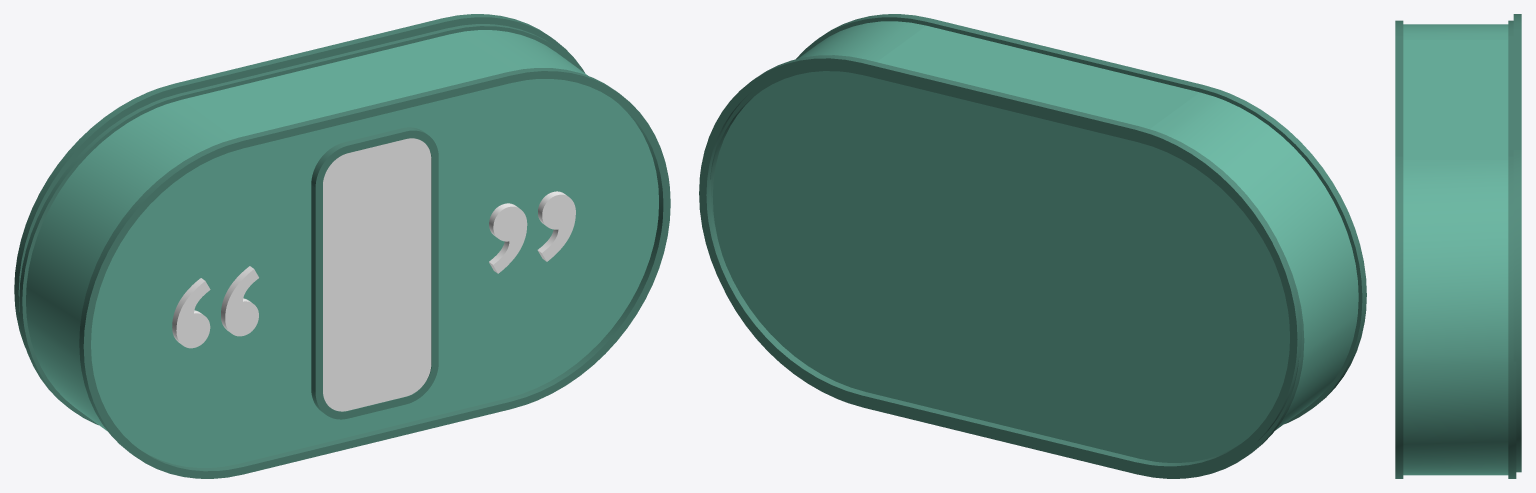
3 renders of one model, left to right at view 1: azimuth 30°, elevation 25°; view 2: azimuth 150°, elevation 25°; view 3: azimuth 270°, elevation 25°, orthographic. The views are drawn at different scales.
Parts seen in each view (by area): view 1: Extrude, Polygon, Extrude.1, Extrude.8, Extrude.5, Extrude.6, Extrude.4, Extrude.3; view 2: Extrude, Extrude.8, Extrude.1, Extrude.6; view 3: Extrude, Extrude.1, Extrude.8, Extrude.6.
Boxes of the visible parts, x1,y1,x2,y2 form: Extrude: (26,30,658,467); Polygon: (323,138,431,411); Extrude.1: (79,68,670,478); Extrude.8: (14,14,584,348); Extrude.5: (311,127,438,419); Extrude.6: (18,24,579,425); Extrude.4: (172,266,258,348); Extrude.3: (489,191,575,273); Extrude: (712,21,1358,462); Extrude.8: (699,55,1301,474); Extrude.1: (796,14,1366,424); Extrude.6: (710,66,1304,478); Extrude: (1403,24,1508,475); Extrude.1: (1395,20,1403,478); Extrude.8: (1513,14,1521,472); Extrude.6: (1508,20,1516,478).
Bounding box in the file's own units: 0.3833 × 0.2123 × 0.0777.
